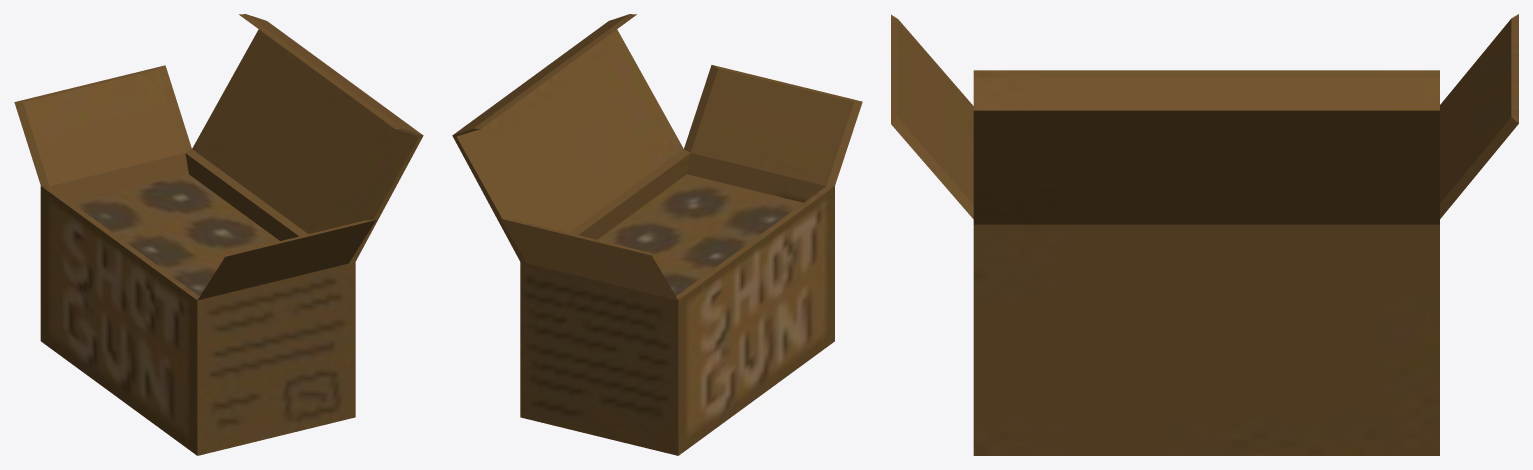
Rendered from shotgun_ammo.glb.
The picture shows the model from 3 angles, left to right: view 1: azimuth 30°, elevation 25°; view 2: azimuth 150°, elevation 25°; view 3: azimuth 270°, elevation 25°; orthographic projection. The views are drawn at different scales.
Visible parts, largest first — view 1: shotgun_ammo.00; view 2: shotgun_ammo.00; view 3: shotgun_ammo.00.
Part boxes in pixels (box(x1,y1,x2,y2)): shotgun_ammo.00: box(14, 14, 423, 455); shotgun_ammo.00: box(452, 14, 862, 455); shotgun_ammo.00: box(891, 14, 1518, 455).
Size of the model in its own units: 0.9502 by 1.12 by 1.53.
1 material, 1 textured.
